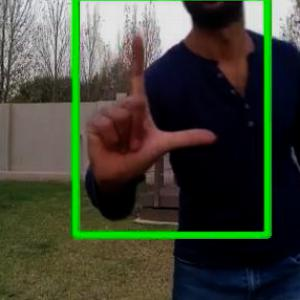land_hand: (84, 32, 216, 183)
